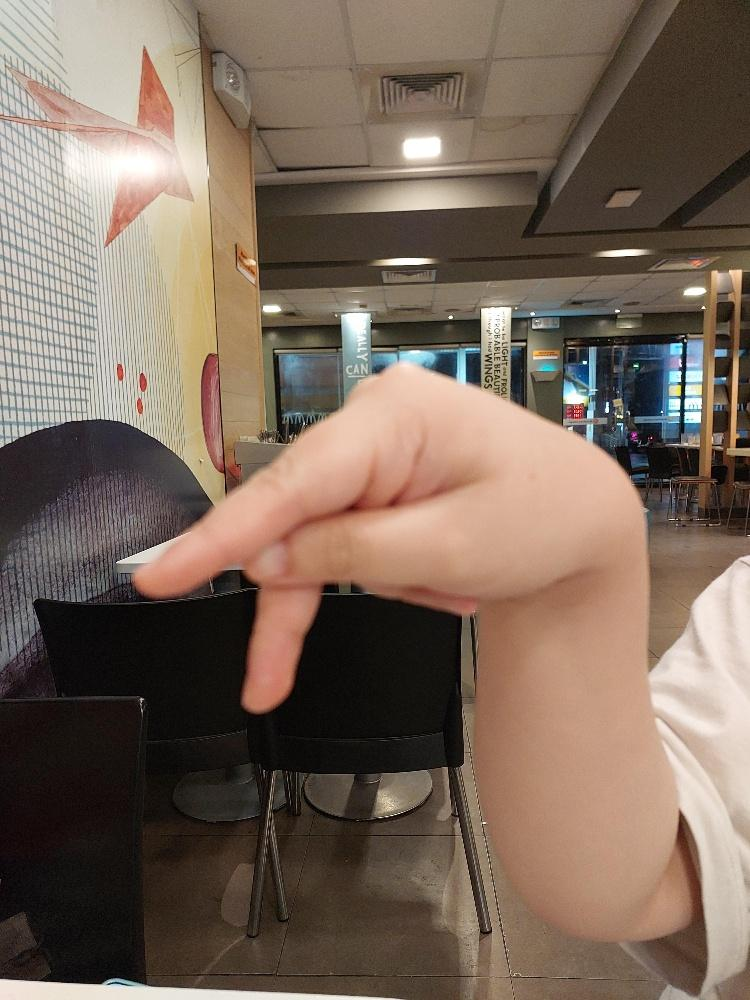p: (128, 359, 590, 716)
